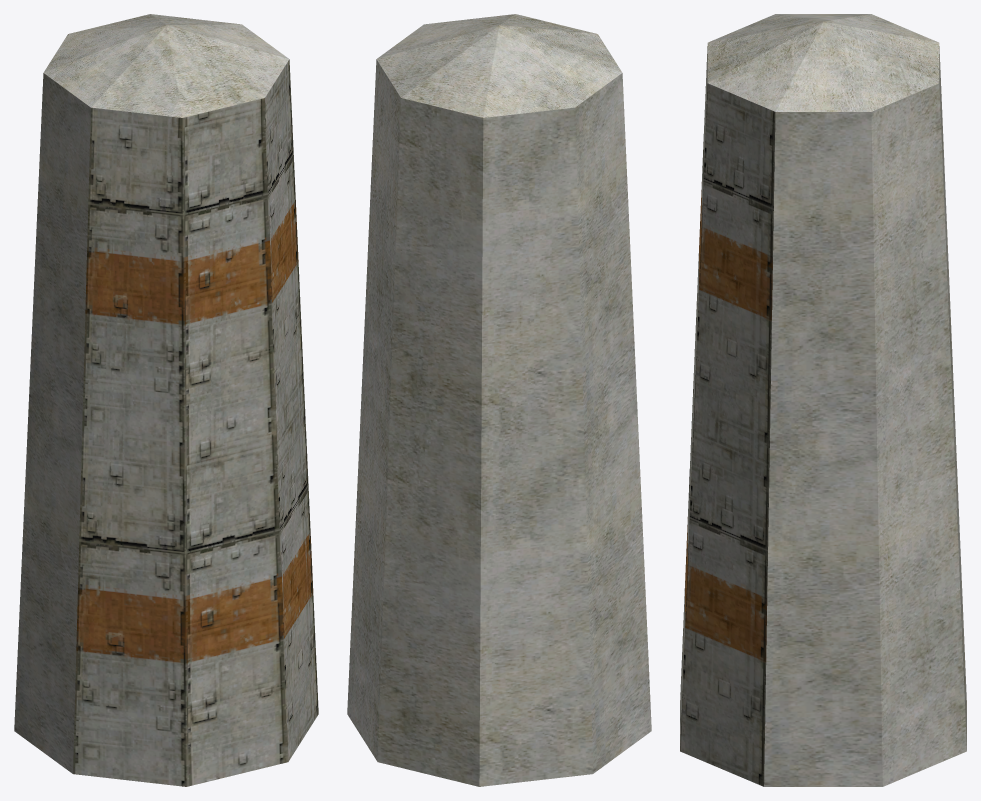
File: mun_all_military_column_strong_rebl_s01_l1.fbx
The picture shows the model from 3 angles, left to right: view 1: azimuth 30°, elevation 25°; view 2: azimuth 150°, elevation 25°; view 3: azimuth 270°, elevation 25°; orthographic projection.
Visible parts, largest first — view 1: mesh_node; view 2: mesh_node; view 3: mesh_node.
Part boxes in pixels (x1,y1,x2,y2): mesh_node: (14,14,318,786); mesh_node: (347,14,651,786); mesh_node: (680,14,966,786).
Size of the model in its own units: 2.73 by 7.4 by 2.73.
